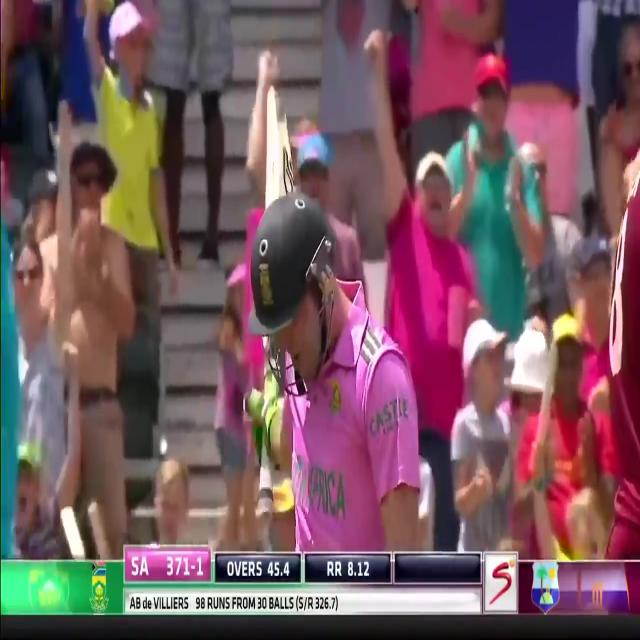Ball: (239, 197, 422, 551)
